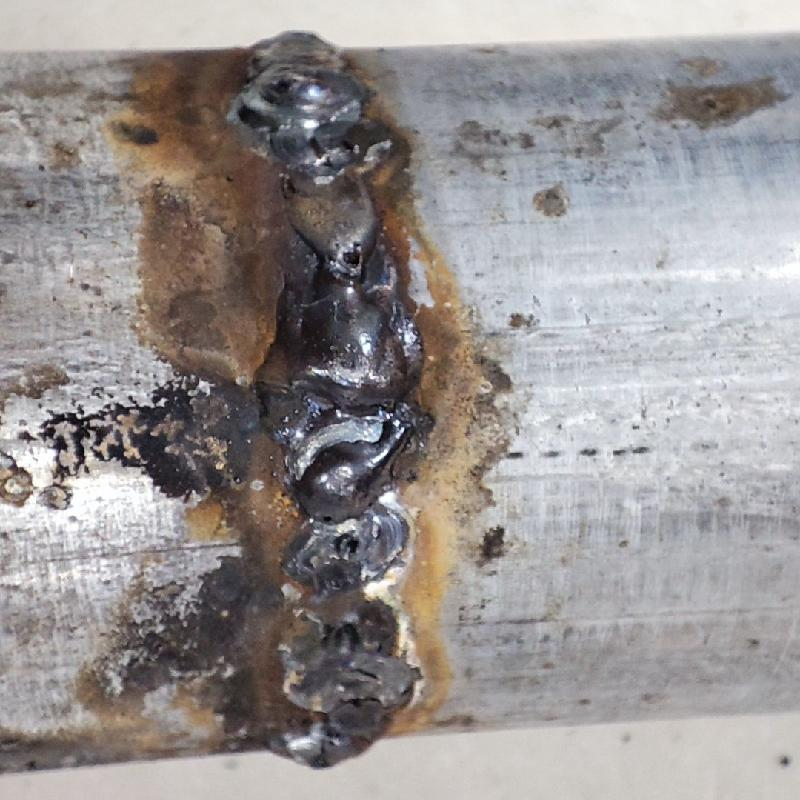Not_fully_soldered: (279, 524, 419, 719), (264, 129, 395, 283)
Surface_pores: (328, 235, 374, 280), (314, 503, 342, 530)
Weld: (255, 281, 423, 524)
wrong_size: (222, 30, 376, 127)
